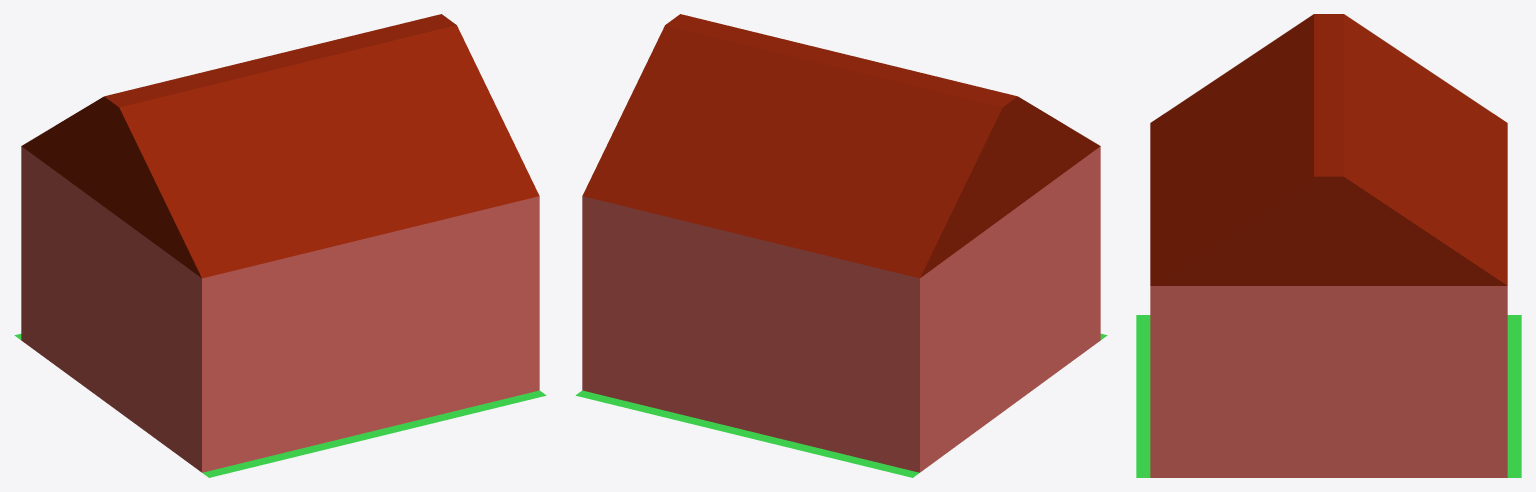
Rendered from easy_house2x2.fbx.
3 renders of one model, left to right at view 1: azimuth 30°, elevation 25°; view 2: azimuth 150°, elevation 25°; view 3: azimuth 270°, elevation 25°, orthographic.
Parts seen in each view (by area): view 1: House2x2; view 2: House2x2; view 3: House2x2.
Boxes of the visible parts, x1,y1,x2,y2 form: House2x2: [14, 14, 546, 477]; House2x2: [575, 14, 1107, 477]; House2x2: [1136, 14, 1521, 477].
Bounding box in the file's own units: 2000 × 1725 × 2000.
